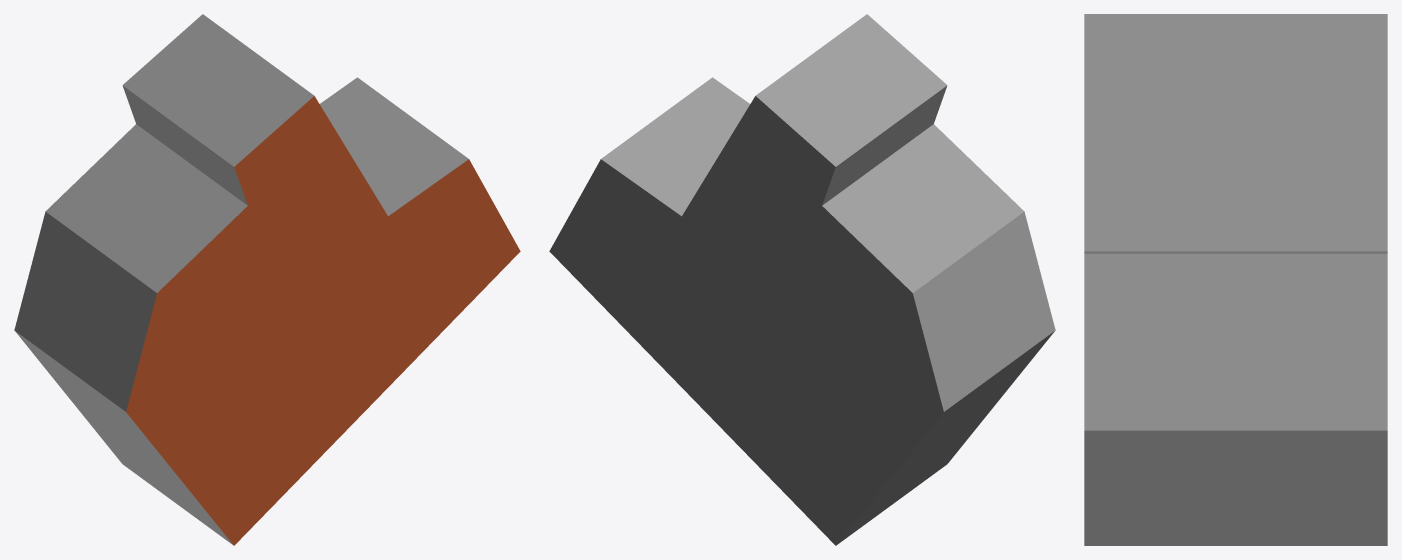
File: construction_5419_assumed_A_Casa_h6m.obj
3 renders of one model, left to right at view 1: azimuth 30°, elevation 25°; view 2: azimuth 150°, elevation 25°; view 3: azimuth 270°, elevation 25°, orthographic. The views are drawn at different scales.
Parts seen in each view (by area): view 1: construction_5419_assumed_A_Casa; view 2: construction_5419_assumed_A_Casa; view 3: construction_5419_assumed_A_Casa.
Boxes of the visible parts, x1,y1,x2,y2 form: construction_5419_assumed_A_Casa: (14,14,520,545); construction_5419_assumed_A_Casa: (549,14,1055,545); construction_5419_assumed_A_Casa: (1084,14,1387,545).
Size of the model in its own units: 12.24 by 12.76 by 6.
